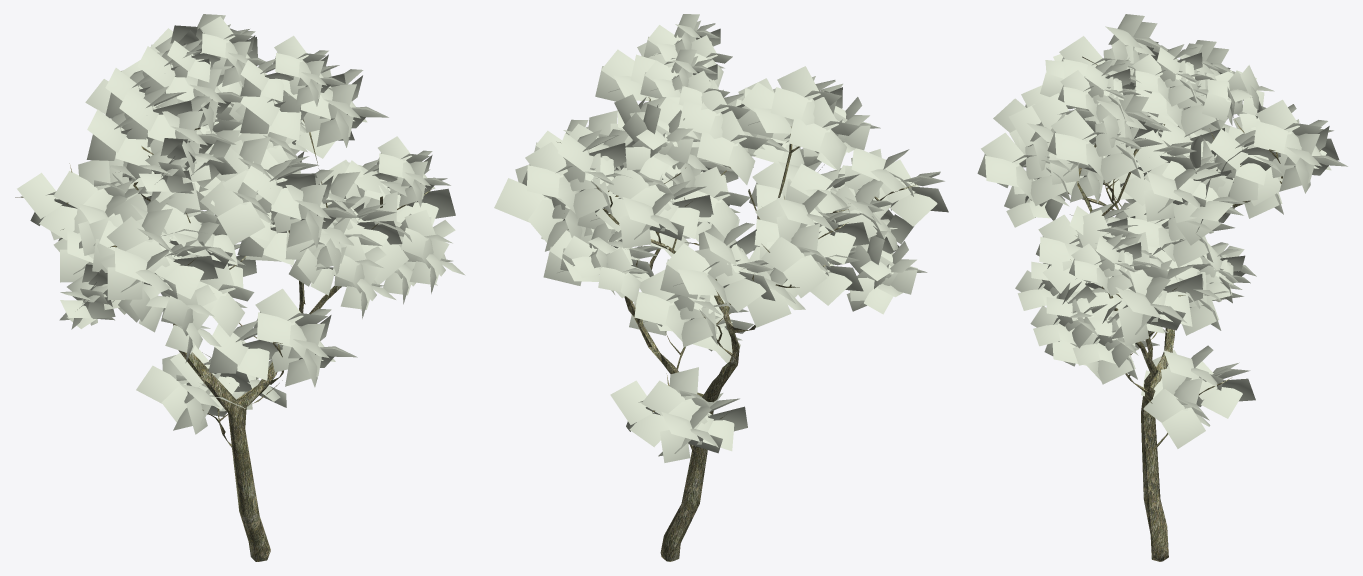
The model's file is albero.fbx.
3 renders of one model, left to right at view 1: azimuth 30°, elevation 25°; view 2: azimuth 150°, elevation 25°; view 3: azimuth 270°, elevation 25°, orthographic. The views are drawn at different scales.
Visible parts, largest first — view 1: Leaves, Trunk; view 2: Leaves, Trunk; view 3: Leaves, Trunk.
Boxes of the visible parts, box(x1,y1,x2,y2) form: Leaves: box(17, 14, 465, 434); Trunk: box(15, 120, 431, 561); Leaves: box(494, 14, 948, 462); Trunk: box(557, 97, 915, 561); Leaves: box(977, 14, 1347, 448); Trunk: box(1068, 56, 1321, 561).
Size of the model in its own units: 4610 by 5820 by 3883.
Materials: 2 (1 with a texture image).
